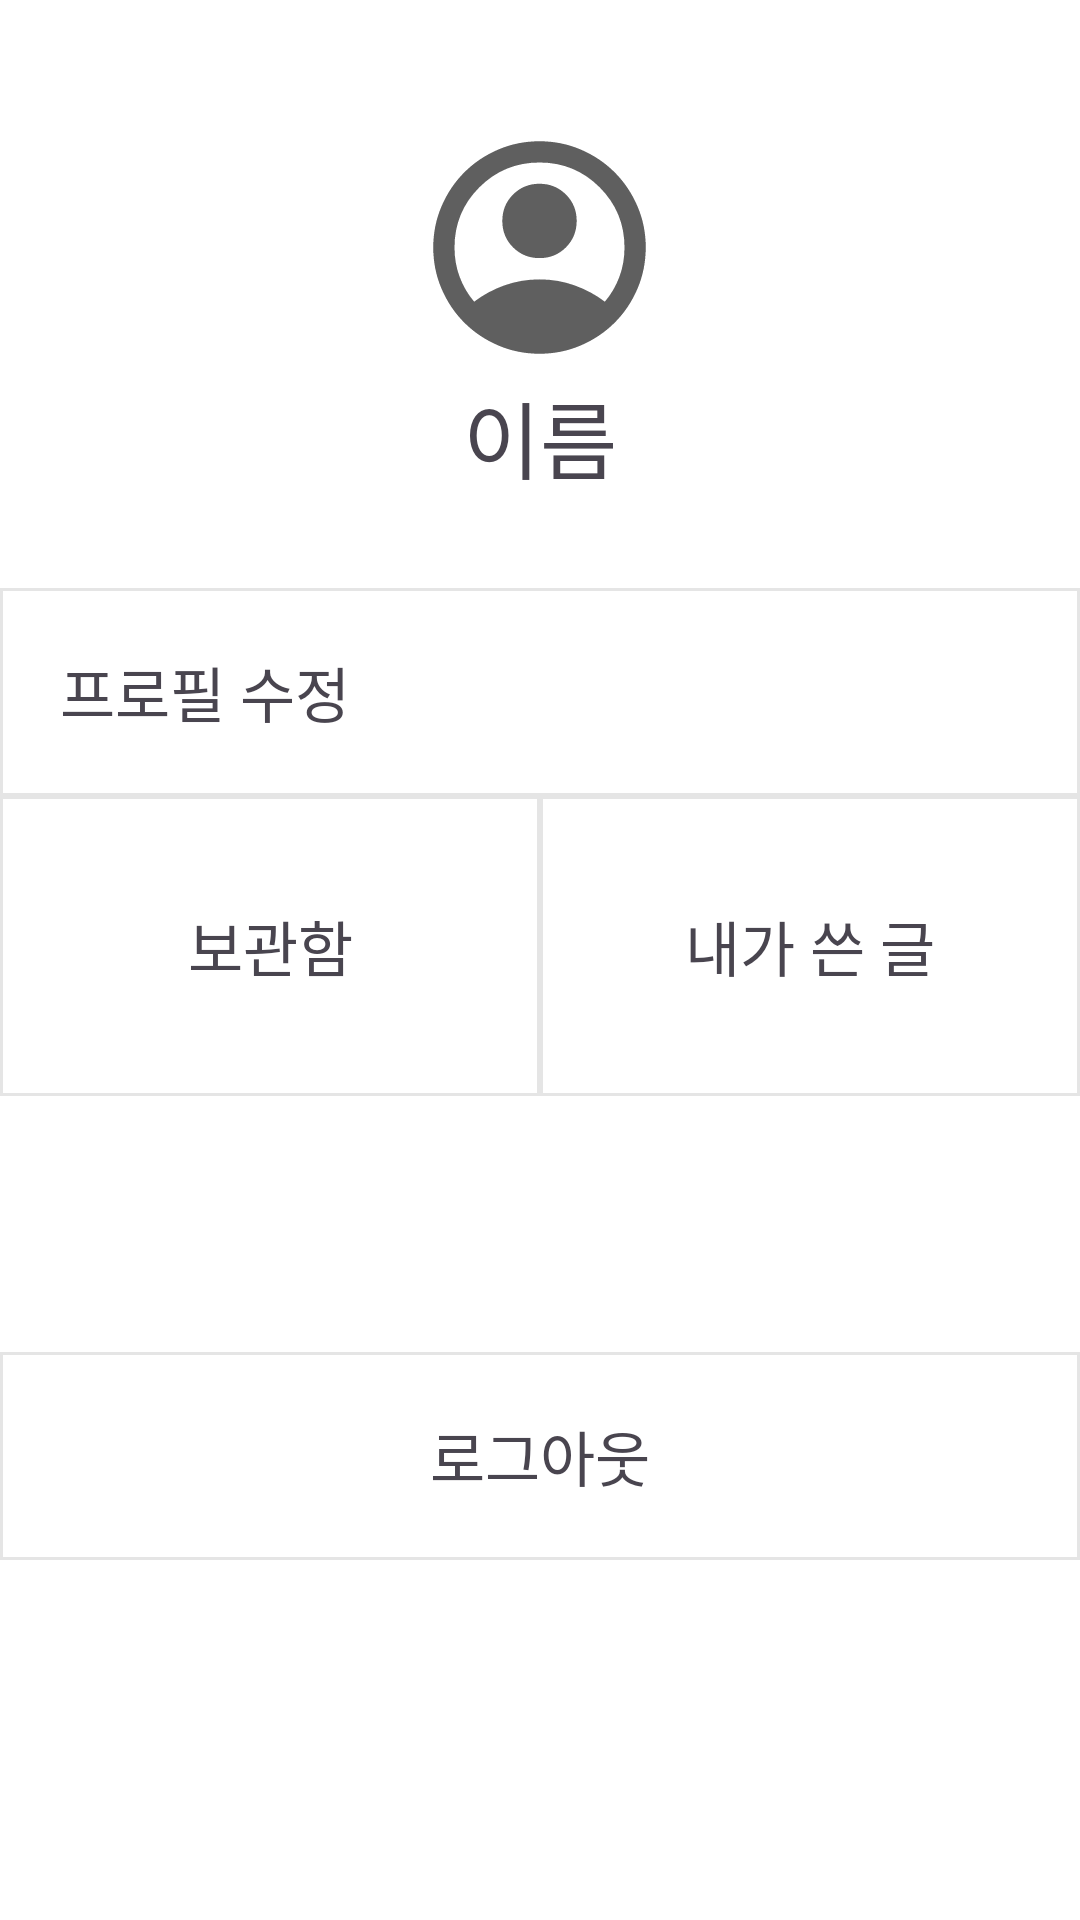

Icon click points for this 1080×1920 phone screenshot, format point (x, y):
profile: point (539, 247)
